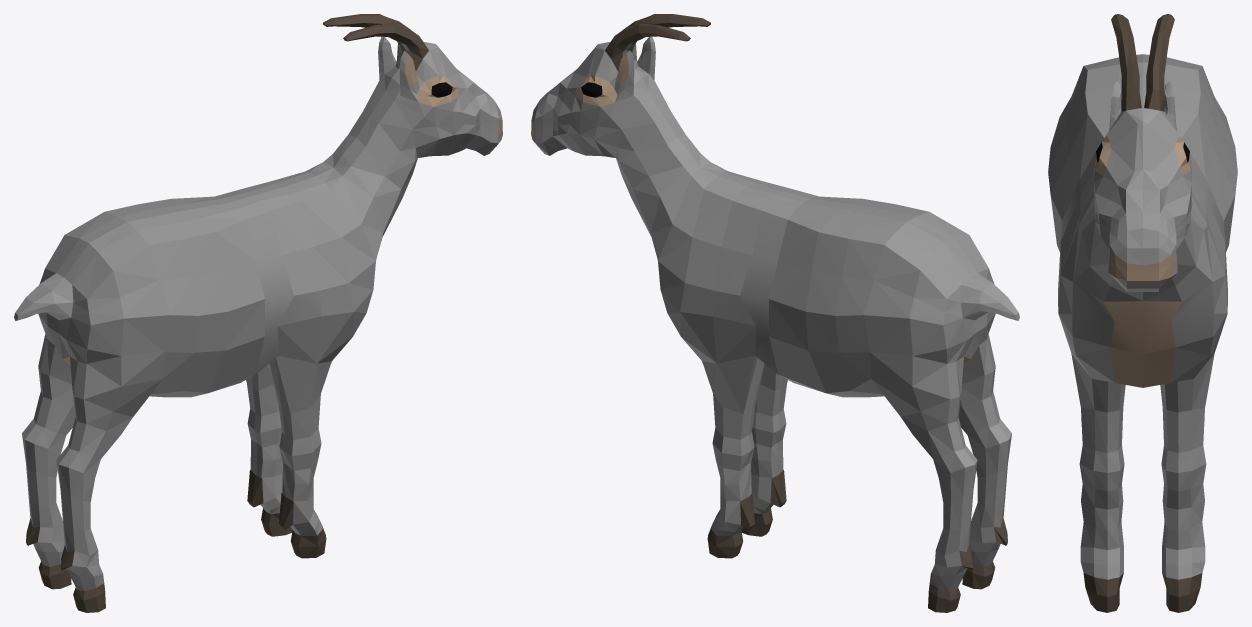
The model's file is Ziege.FBX.
3 renders of one model, left to right at view 1: azimuth 30°, elevation 25°; view 2: azimuth 150°, elevation 25°; view 3: azimuth 270°, elevation 25°, orthographic. The views are drawn at different scales.
Parts seen in each view (by area): view 1: Box001; view 2: Box001; view 3: Box001.
Part boxes in pixels (left/top/right/bottom): Box001: left=14, top=14, right=502, bottom=612; Box001: left=531, top=14, right=1019, bottom=612; Box001: left=1048, top=14, right=1237, bottom=612.
Size of the model in its own units: 37.02 by 10.34 by 37.13.
